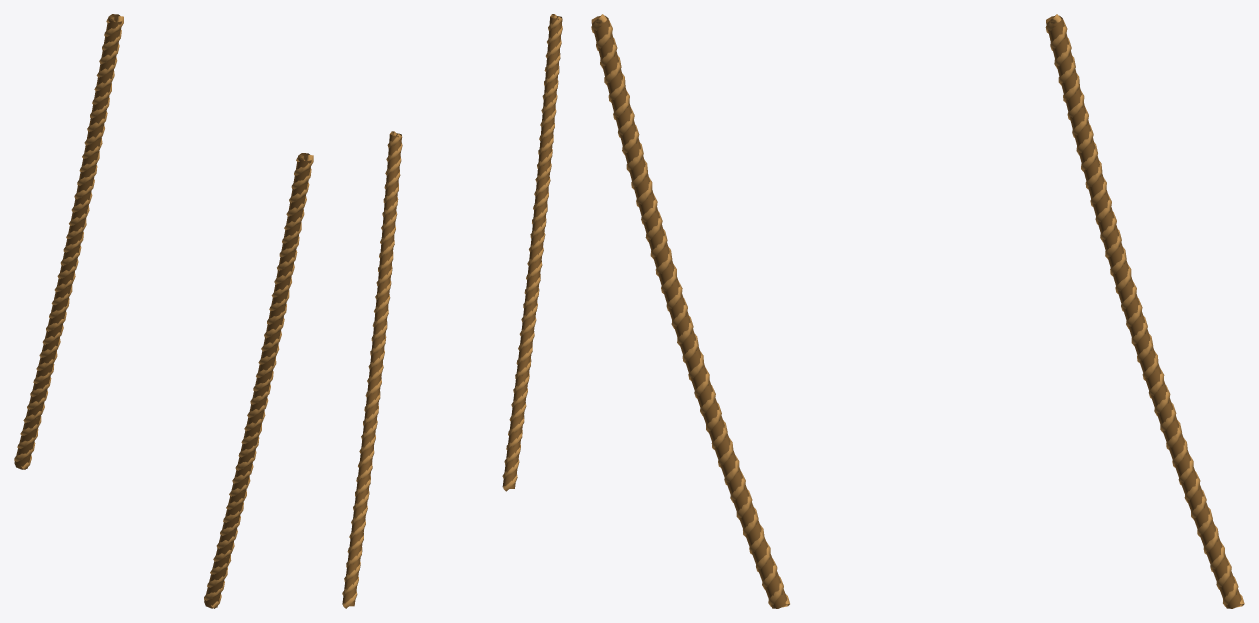
File: SM_Menu_MoonSuspension.fbx
The picture shows the model from 3 angles, left to right: view 1: azimuth 30°, elevation 25°; view 2: azimuth 150°, elevation 25°; view 3: azimuth 270°, elevation 25°; orthographic projection. The views are drawn at different scales.
Visible parts, largest first — view 1: Rope core.015_Baked; view 2: Rope core.015_Baked; view 3: Rope core.015_Baked.
Part boxes in pixels (bbox=[...]): Rope core.015_Baked: bbox=[14, 14, 313, 608]; Rope core.015_Baked: bbox=[342, 14, 562, 608]; Rope core.015_Baked: bbox=[591, 14, 1244, 608].
Bounding box in the file's own units: 12.54 × 174 × 177.
